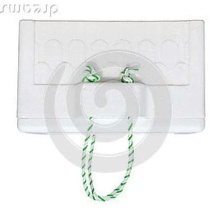foam_box: (12, 15, 213, 205)
